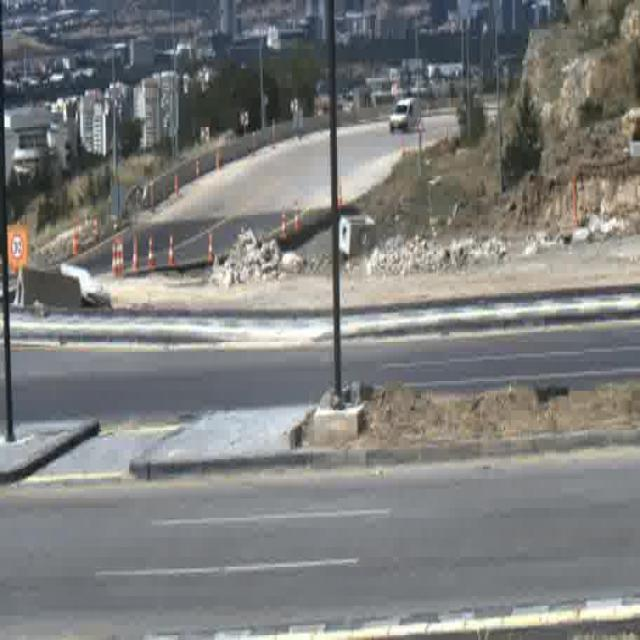Car: (390, 94, 421, 134)
